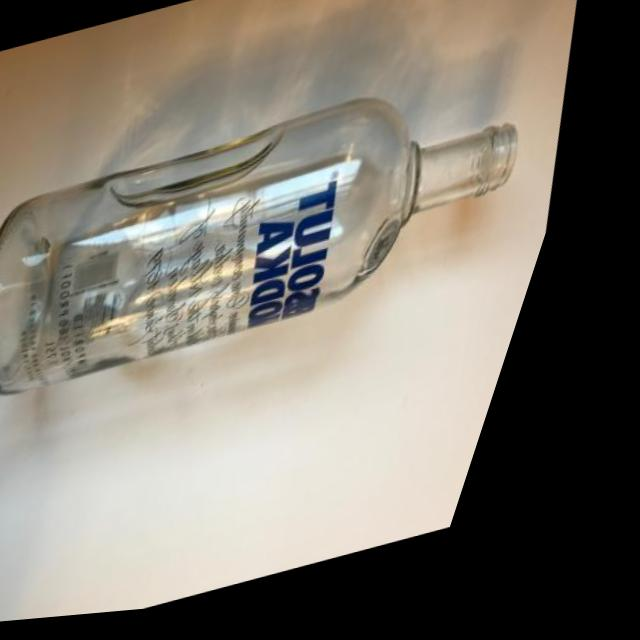glass: (0, 15, 624, 485)
